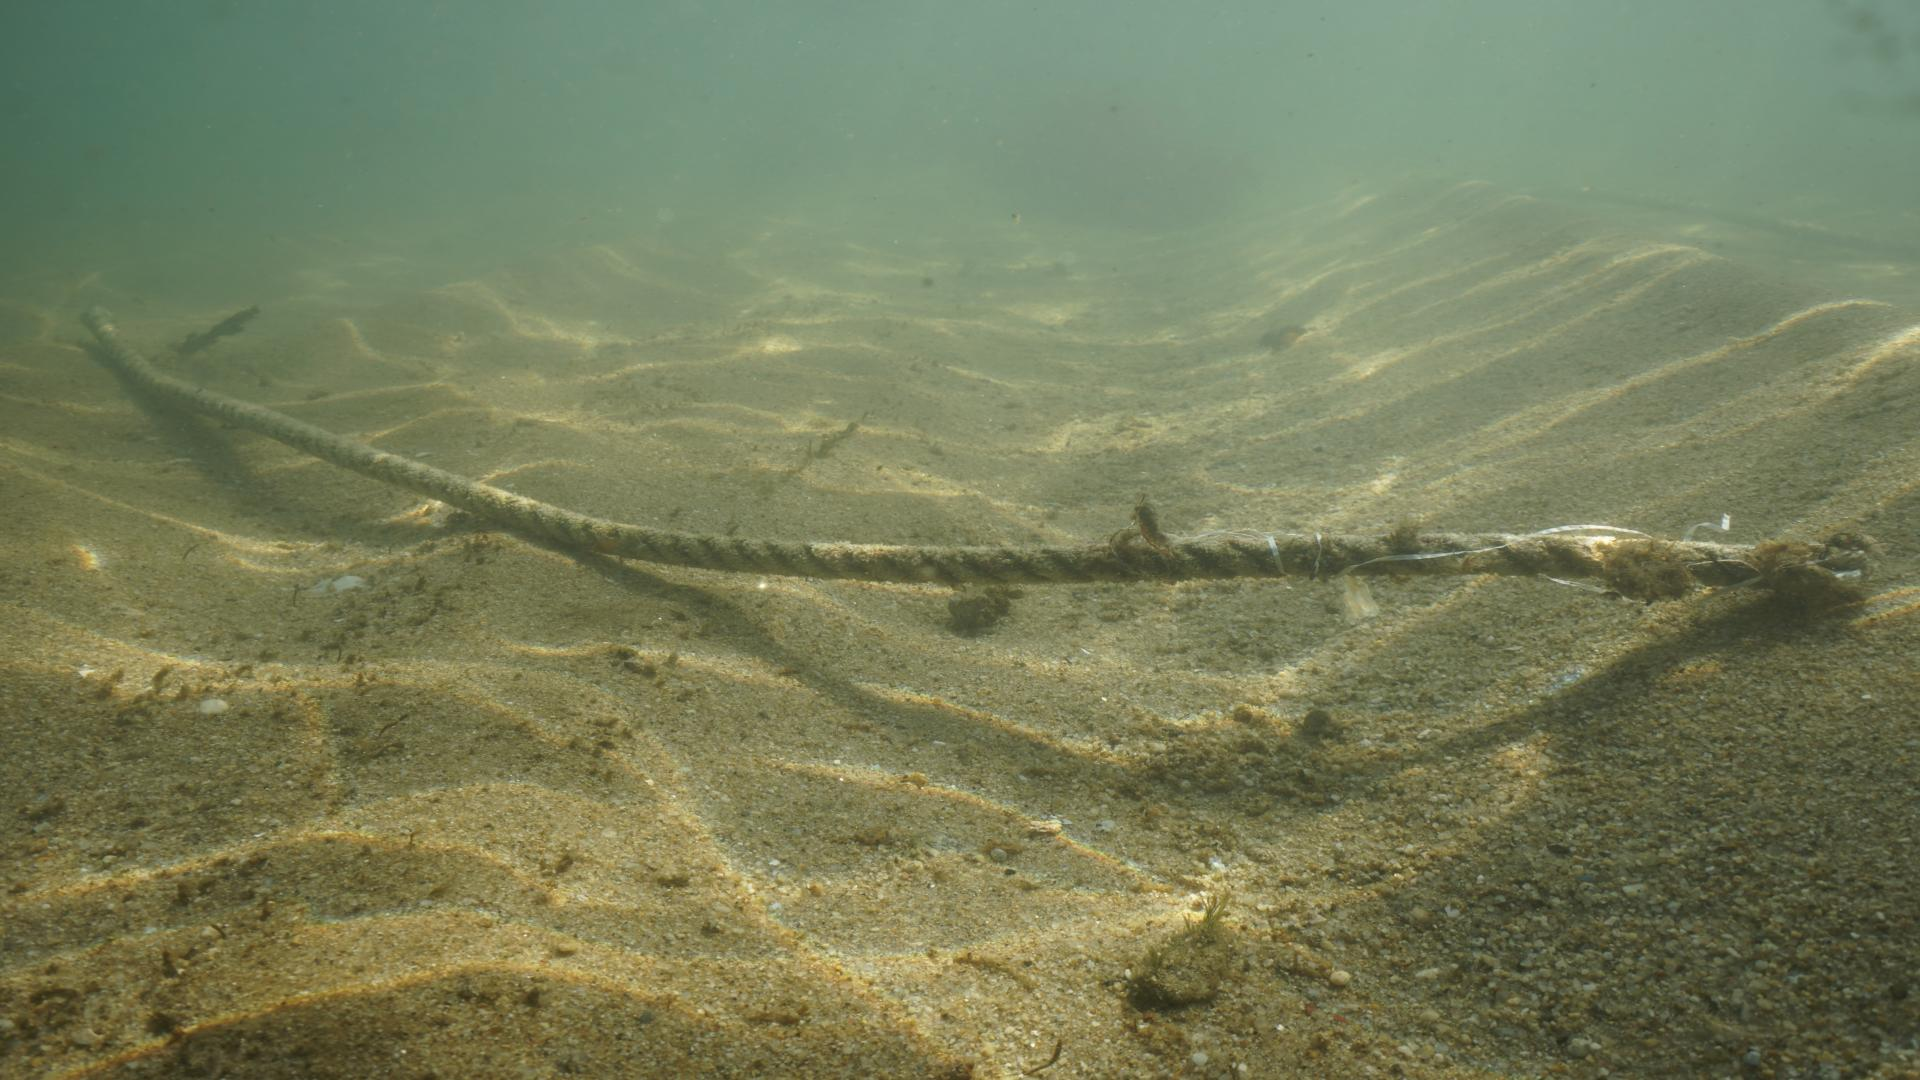rope: (73, 297, 1822, 617)
